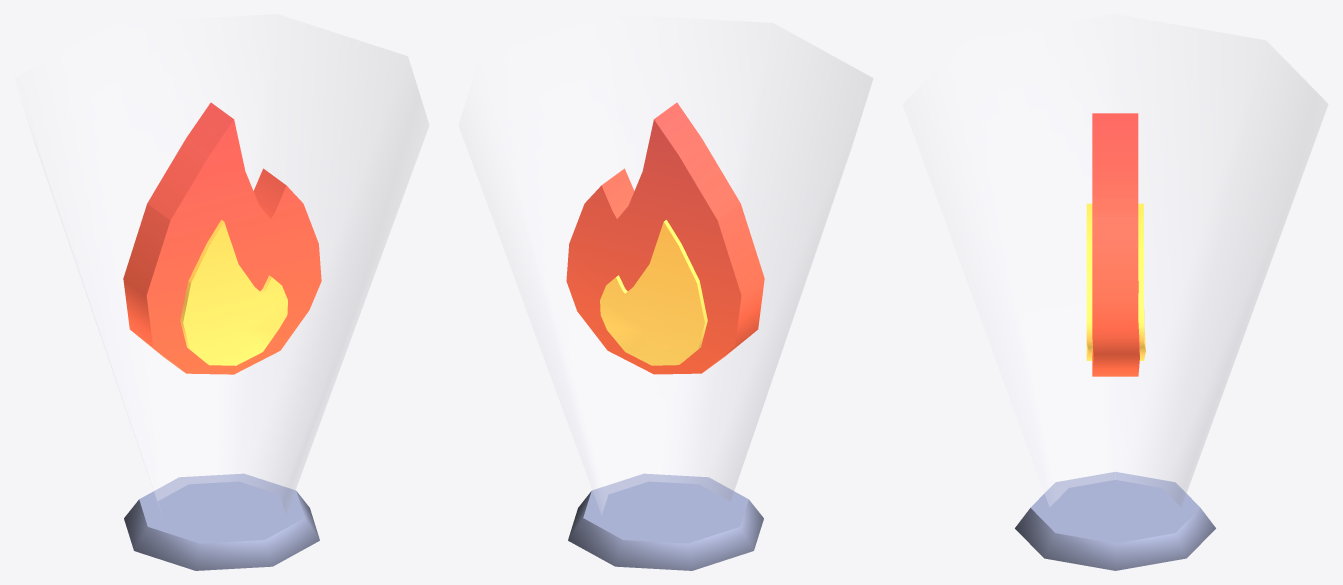
The model's file is PickUpRage.glb.
3 renders of one model, left to right at view 1: azimuth 30°, elevation 25°; view 2: azimuth 150°, elevation 25°; view 3: azimuth 270°, elevation 25°, orthographic.
Parts seen in each view (by area): view 1: PickUpRage; view 2: PickUpRage; view 3: PickUpRage.
Part boxes in pixels (bbox=[...]): PickUpRage: bbox=[15, 14, 428, 570]; PickUpRage: bbox=[459, 14, 872, 570]; PickUpRage: bbox=[903, 14, 1327, 570].
Size of the model in its own units: 1.66 by 1.82 by 1.66.
Materials: 3 (3 with a texture image).
